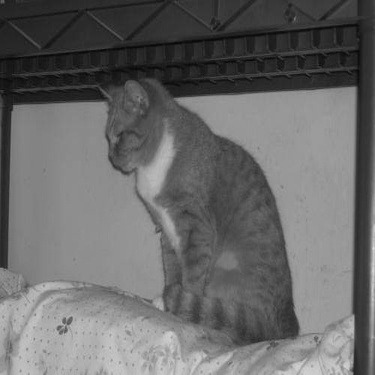cat: (91, 73, 297, 342)
